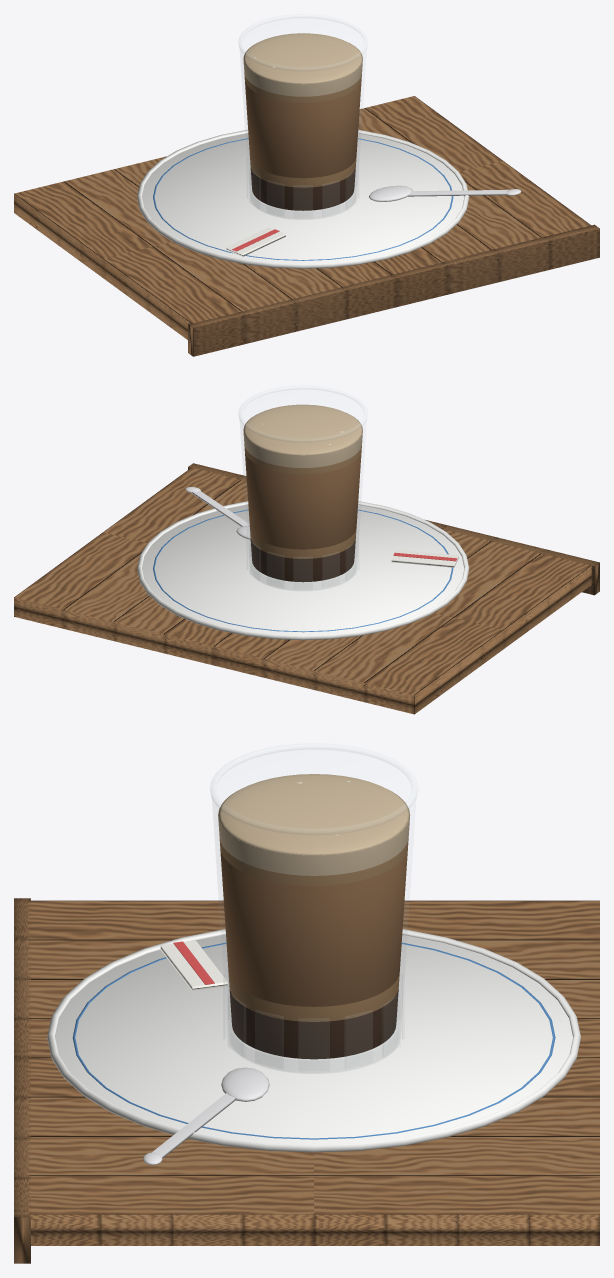
File: vaso_cafe_con_leche.glb
3 views of the same model, one above another, from view 1: azimuth 30°, elevation 25°; view 2: azimuth 150°, elevation 25°; view 3: azimuth 270°, elevation 25° (orthographic). The views are drawn at different scales.
Visible parts, largest first — view 1: Barra_Tablero, Grupo_0_4piezas, Barra_Canto_Frontal, Liquido_Cuerpo, Grupo_3_2piezas, Grupo_1_15piezas, Liquido_Fondo_Cafe, Grupo_2_2piezas, Grupo_5_3piezas, Platillo_Filete, Sobre_Azucar; view 2: Barra_Tablero, Grupo_0_4piezas, Liquido_Cuerpo, Grupo_3_2piezas, Grupo_1_15piezas, Liquido_Fondo_Cafe, Grupo_2_2piezas, Barra_Canto_Frontal, Platillo_Filete, Sobre_Azucar, Grupo_5_3piezas; view 3: Barra_Tablero, Grupo_0_4piezas, Liquido_Cuerpo, Grupo_3_2piezas, Grupo_1_15piezas, Liquido_Fondo_Cafe, Barra_Canto_Frontal, Grupo_2_2piezas, Grupo_5_3piezas, Platillo_Filete, Sobre_Azucar.
Boxes of the visible parts, box(x1,y1,x2,y2) form: Barra_Tablero: box(14, 96, 591, 339); Grupo_0_4piezas: box(137, 129, 469, 268); Barra_Canto_Frontal: box(188, 224, 599, 356); Liquido_Cuerpo: box(244, 79, 361, 178); Grupo_3_2piezas: box(243, 33, 362, 96); Grupo_1_15piezas: box(239, 15, 367, 219); Liquido_Fondo_Cafe: box(250, 166, 355, 210); Grupo_2_2piezas: box(244, 73, 361, 187); Grupo_5_3piezas: box(369, 185, 521, 201); Platillo_Filete: box(153, 138, 453, 260); Sobre_Azucar: box(226, 227, 285, 256); Barra_Tablero: box(14, 467, 591, 714); Grupo_0_4piezas: box(137, 501, 469, 640); Liquido_Cuerpo: box(244, 450, 361, 549); Grupo_3_2piezas: box(243, 404, 362, 467); Grupo_1_15piezas: box(239, 387, 367, 590); Liquido_Fondo_Cafe: box(250, 538, 355, 582); Grupo_2_2piezas: box(244, 444, 361, 558); Barra_Canto_Frontal: box(188, 463, 599, 595); Platillo_Filete: box(153, 509, 453, 632); Sobre_Azucar: box(391, 549, 458, 567); Grupo_5_3piezas: box(185, 487, 250, 539); Barra_Tablero: box(28, 900, 599, 1245); Grupo_0_4piezas: box(47, 929, 580, 1152); Liquido_Cuerpo: box(220, 848, 407, 1006); Grupo_3_2piezas: box(218, 774, 410, 875); Grupo_1_15piezas: box(211, 745, 416, 1073); Liquido_Fondo_Cafe: box(229, 989, 398, 1059); Barra_Canto_Frontal: box(14, 898, 30, 1263); Grupo_2_2piezas: box(219, 838, 408, 1021); Grupo_5_3piezas: box(143, 1067, 269, 1165); Platillo_Filete: box(72, 942, 555, 1139); Sobre_Azucar: box(160, 940, 227, 991).
Size of the model in its own units: 2.64 by 1.23 by 2.05.
Materials: 14 (2 with a texture image).
